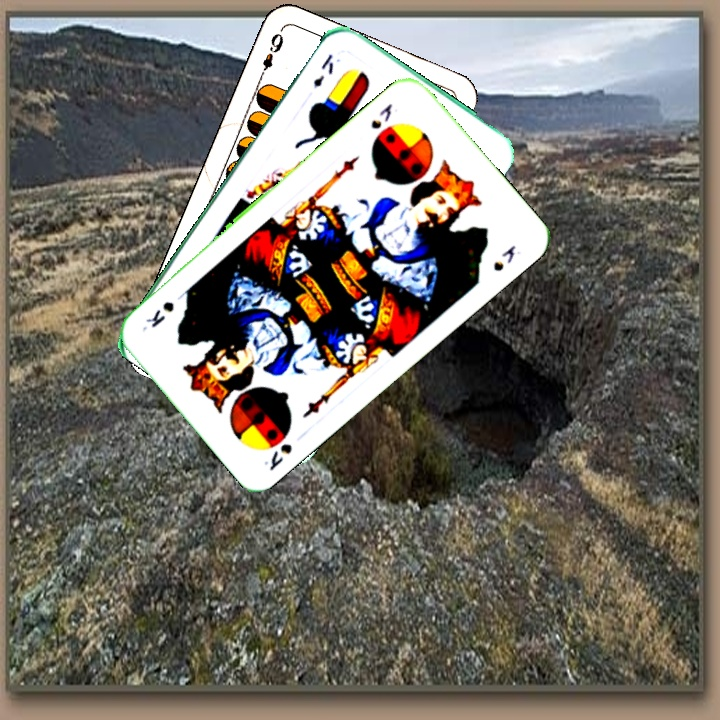E9: (255, 26, 286, 82)
EK: (309, 50, 337, 91)
SK: (259, 439, 295, 474), (366, 98, 395, 132)
